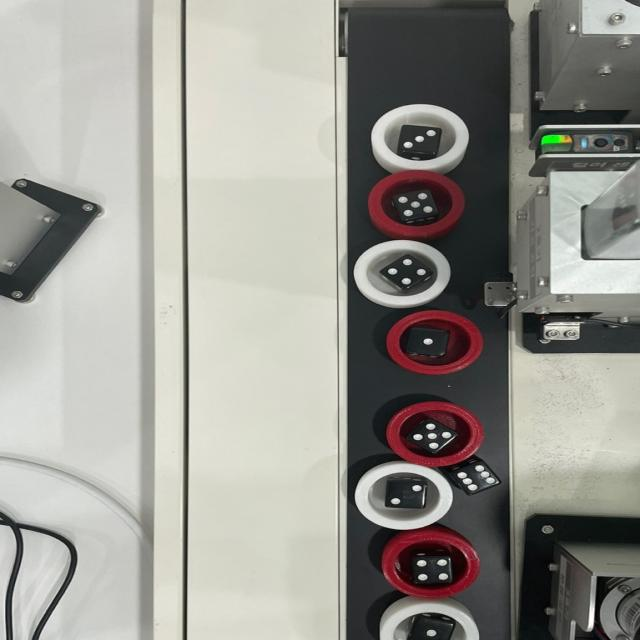DICE1: (409, 328, 443, 353), (414, 619, 446, 640)
DICE2: (383, 479, 429, 509)
DICE3: (401, 128, 438, 150)
DICE4: (384, 258, 430, 285), (415, 558, 453, 583)
DICE5: (411, 421, 454, 450), (394, 192, 436, 218)
DICE6: (450, 460, 504, 499)
RedChip: (380, 532, 483, 600), (383, 312, 487, 378), (384, 401, 484, 466), (371, 171, 465, 235)
WhiteChip: (374, 102, 471, 170), (354, 240, 450, 306), (356, 464, 454, 528), (382, 604, 481, 640)
